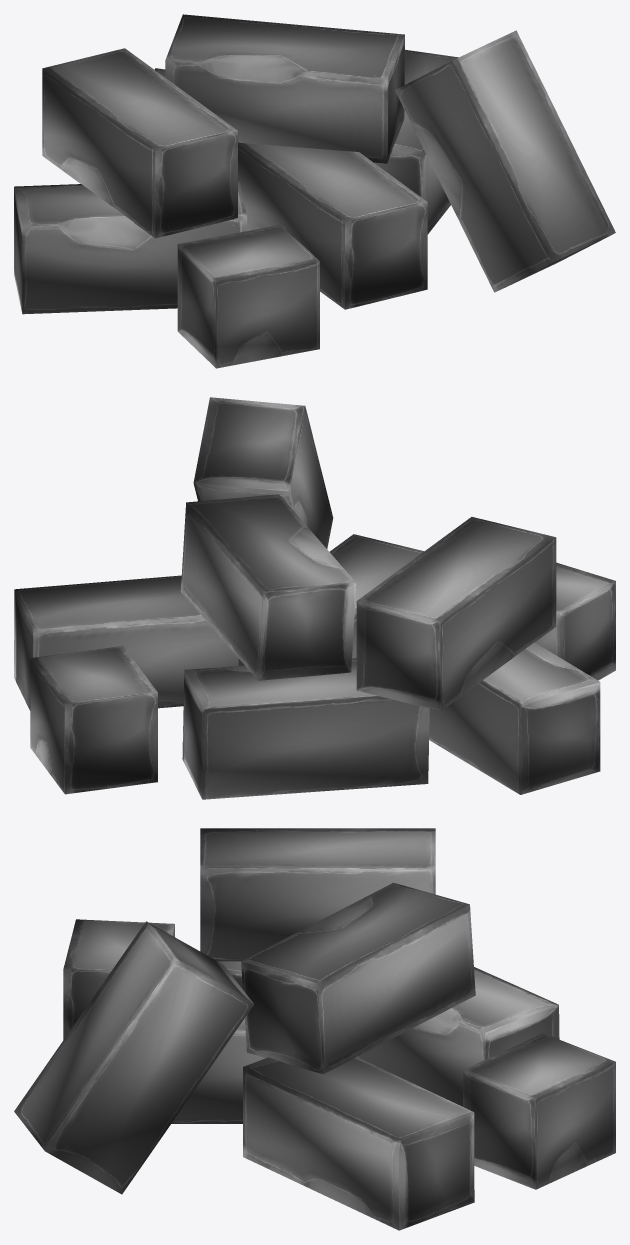
Rendered from brick_pile_2.fbx.
The picture shows the model from 3 angles, top to bottom: view 1: azimuth 30°, elevation 25°; view 2: azimuth 150°, elevation 25°; view 3: azimuth 270°, elevation 25°; orthographic projection. The views are drawn at different scales.
Parts seen in each view (by area): view 1: brick_pile_2; view 2: brick_pile_2; view 3: brick_pile_2.
Part boxes in pixels (x1,y1,x2,y2): brick_pile_2: (14, 14, 615, 368); brick_pile_2: (14, 397, 615, 799); brick_pile_2: (14, 828, 615, 1230).
Bounding box in the file's own units: 2.18 × 0.8749 × 2.08.
